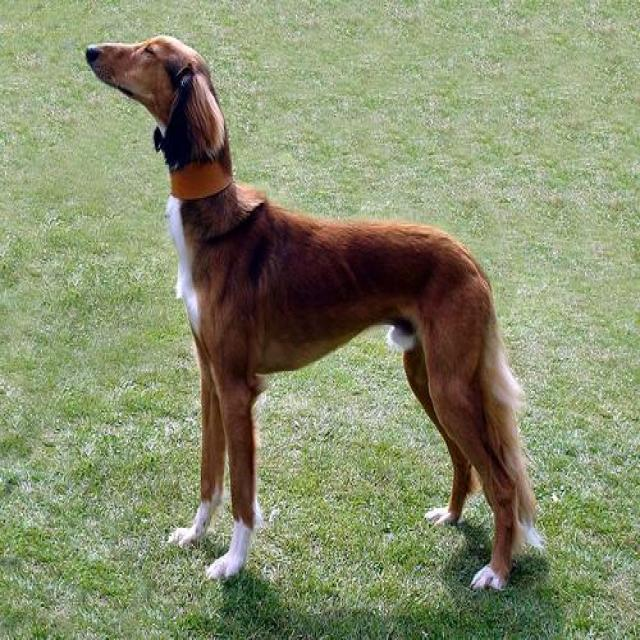saluki: (82, 30, 549, 600)
